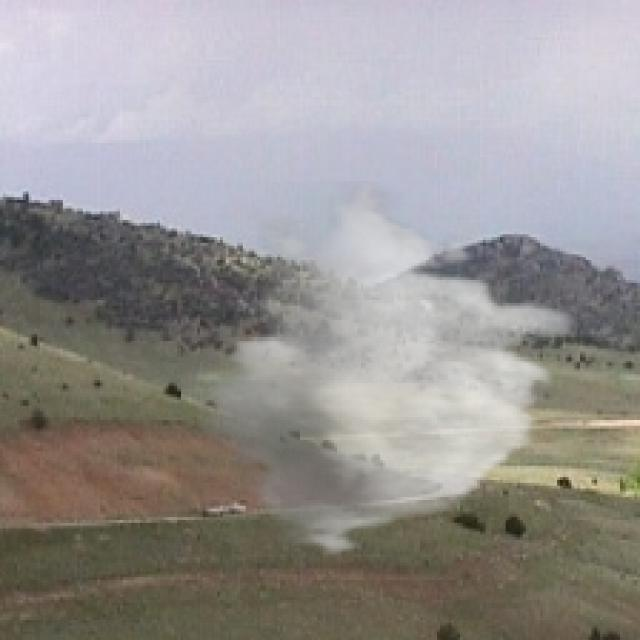smoke: (186, 180, 583, 560)
